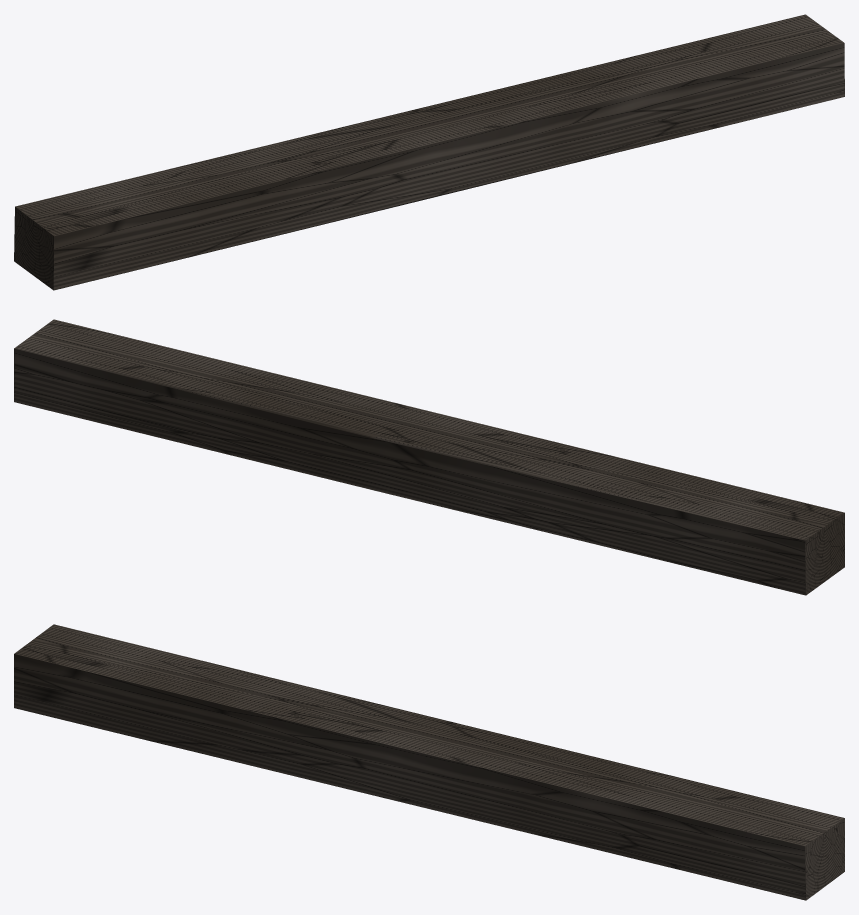
File: tie_far.glb
3 views of the same model, one above another, from view 1: azimuth 30°, elevation 25°; view 2: azimuth 150°, elevation 25°; view 3: azimuth 330°, elevation 25° (orthographic).
Parts seen in each view (by area): view 1: TieFar; view 2: TieFar; view 3: TieFar.
Part boxes in pixels (x1=…): TieFar: x1=14, y1=14, x2=844, y2=290; TieFar: x1=14, y1=319, x2=844, y2=595; TieFar: x1=14, y1=624, x2=844, y2=900.
Size of the model in its own units: 2.58 by 0.1742 by 0.2283.
Materials: 1 (1 with a texture image).
